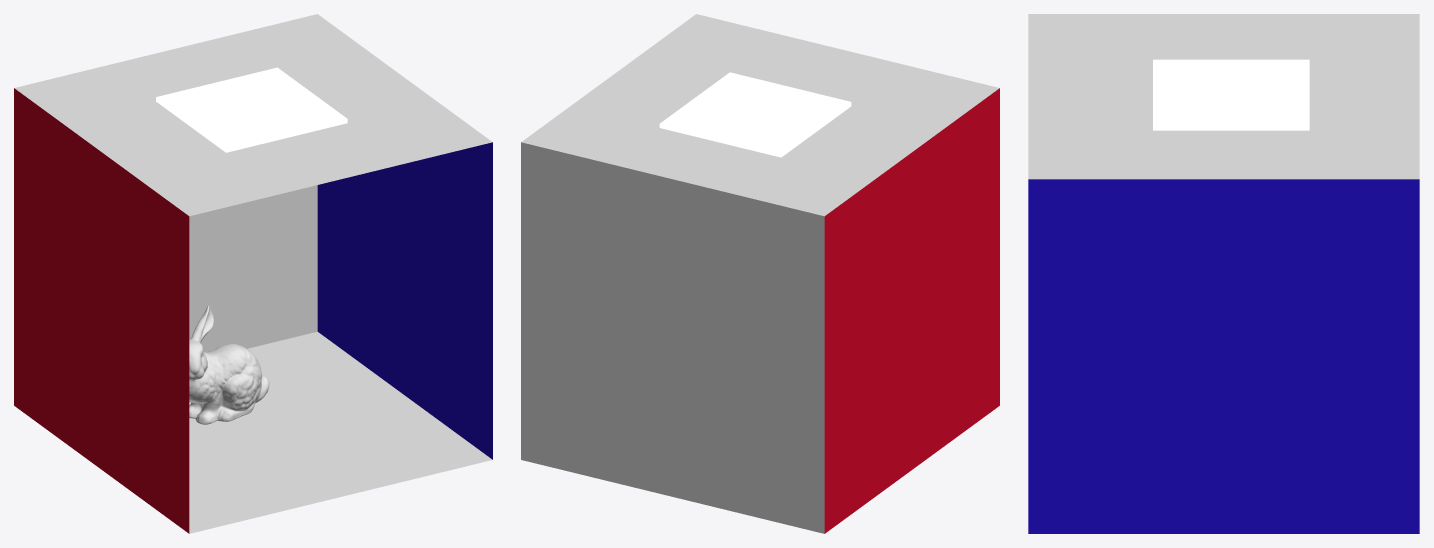
File: pathtracer_bunny_mis.glb
3 views of the same model, side by side, from view 1: azimuth 30°, elevation 25°; view 2: azimuth 150°, elevation 25°; view 3: azimuth 270°, elevation 25° (orthographic). The views are drawn at different scales.
Parts seen in each view (by area): view 1: Cube, Cube.001, bun_zipper; view 2: Cube, Cube.001; view 3: Cube, Cube.001.
Boxes of the visible parts, x1=… form: Cube: x1=14, y1=14, x2=492, y2=533; Cube.001: x1=156, y1=67, x2=347, y2=152; bun_zipper: x1=189, y1=305, x2=269, y2=424; Cube: x1=521, y1=14, x2=999, y2=533; Cube.001: x1=659, y1=72, x2=851, y2=157; Cube: x1=1028, y1=14, x2=1419, y2=533; Cube.001: x1=1153, y1=59, x2=1309, y2=130.
Size of the model in its own units: 18.46 by 18.74 by 18.46.
